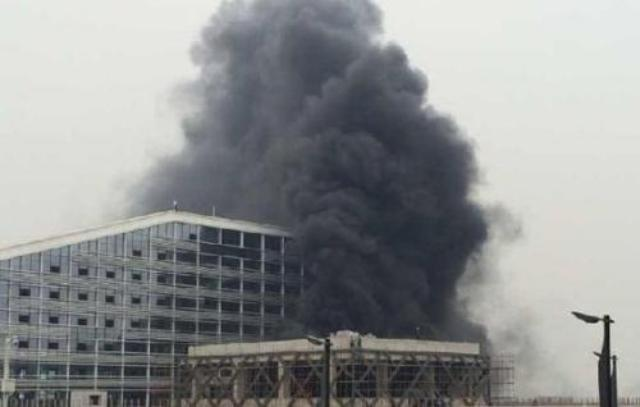smoke: (273, 141, 497, 248), (264, 1, 424, 139), (290, 254, 472, 334), (179, 0, 263, 138), (119, 139, 268, 214)
